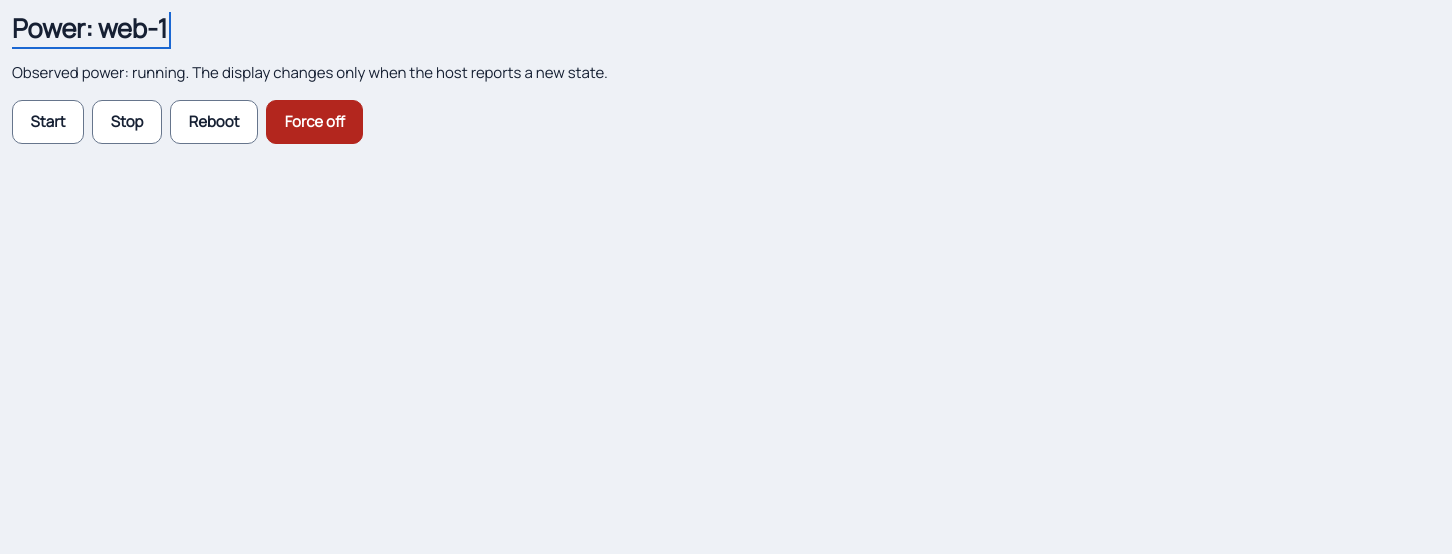
Test case: journey negative cases › outcome unknown followed by an unreachable read shows the J8 banner with last-known data
The width and height of the screenshot is (1452, 554).
What coordinates should you click on to do the following:
click the button "Stop"
I would click on:
 (127, 122)
Its box is 92,100 -> 162,144.
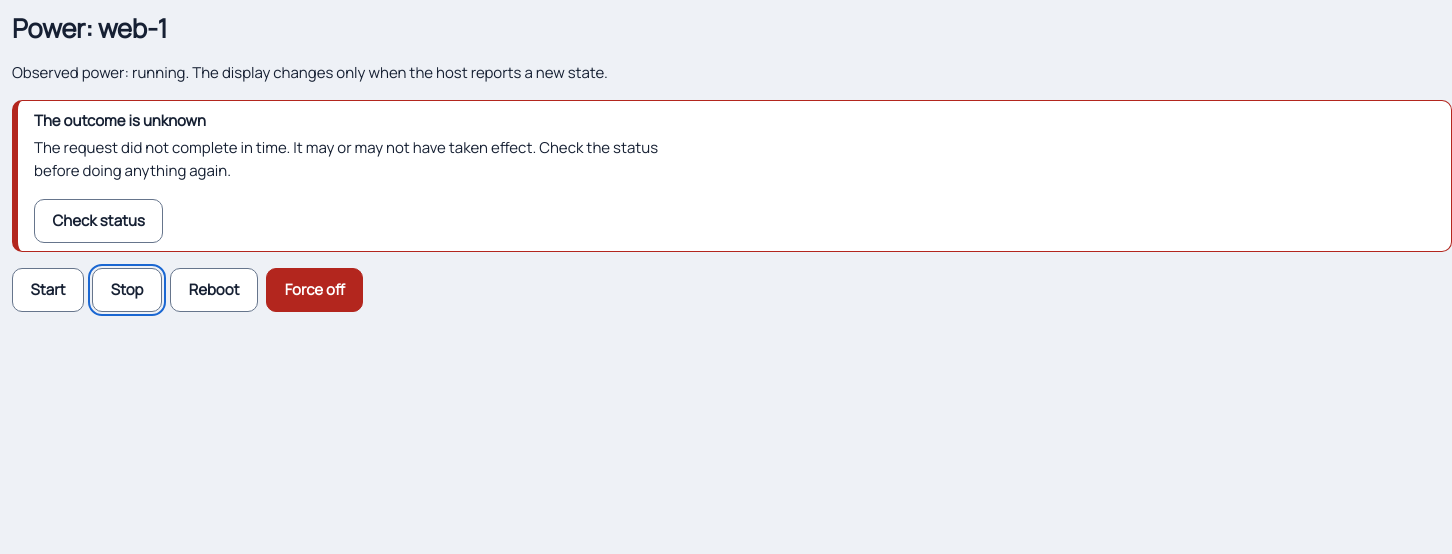
Check: the text "The outcome is unknown" is shown, box 34,110 -> 206,131
What coordinates should you click on to do the following:
click the button "Check status"
I would click on:
 (99, 220)
Its box is 34,198 -> 163,242.
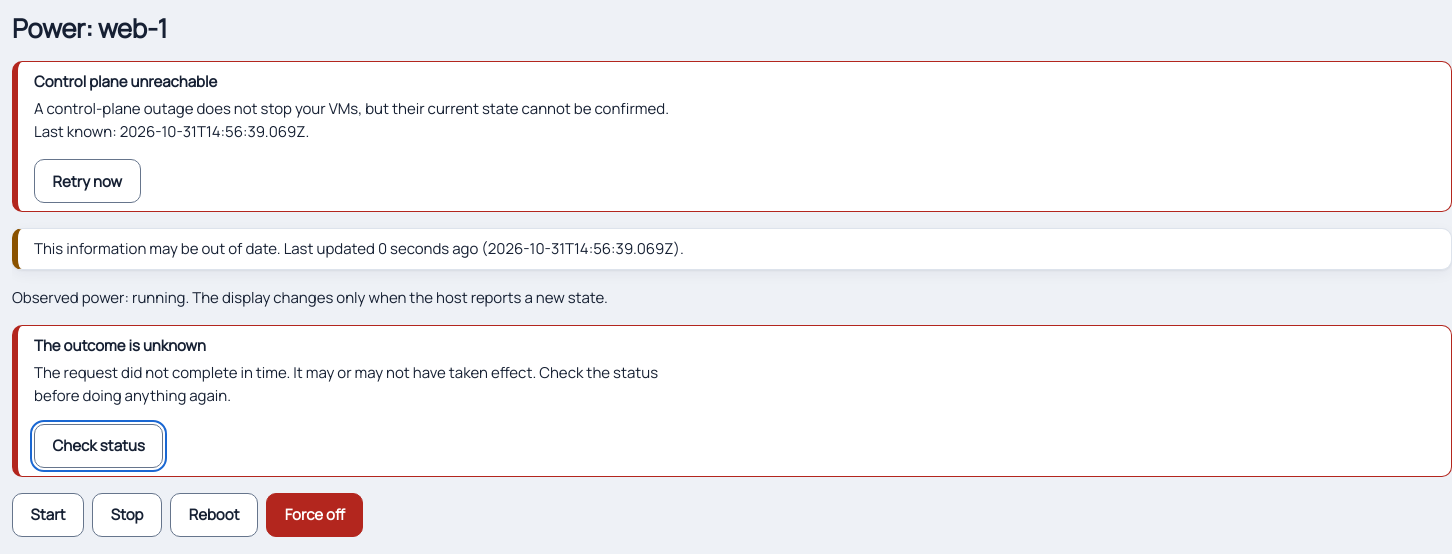
Check: the text "Observed power: running" is shown, box 12,286 -> 652,309
Check: the text "Control plane unreachable" is shown, box 34,70 -> 217,92
Check: the text "may be out of date" is shown, box 34,238 -> 378,259
